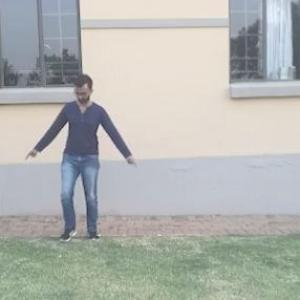land: (0, 65, 135, 263)
